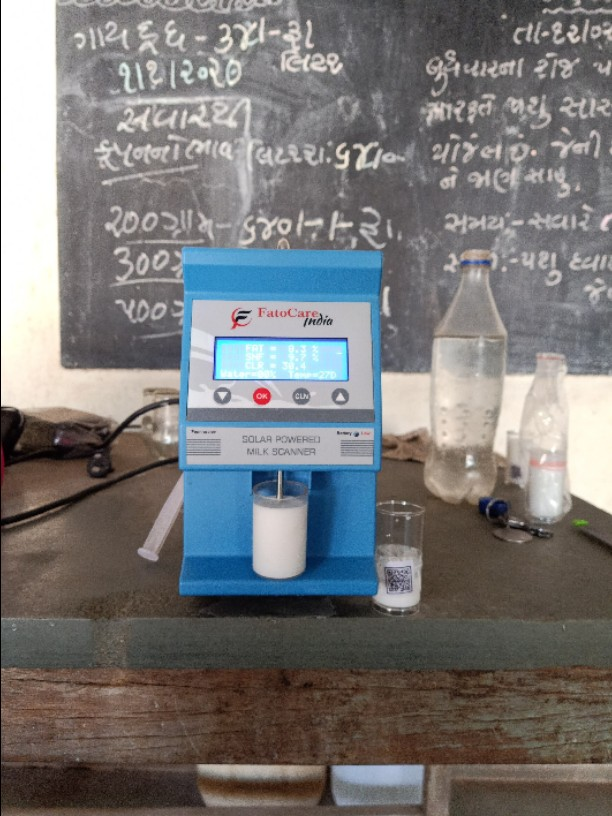lcd: (211, 339, 352, 380)
qr: (383, 563, 420, 595)
